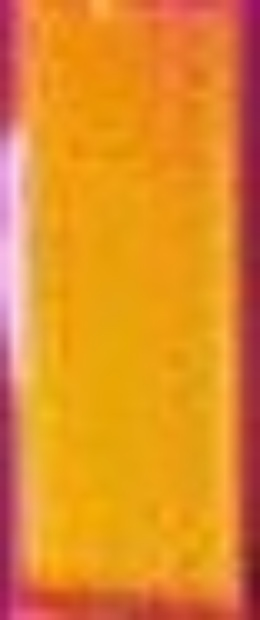Diode: (1, 123, 49, 393)
